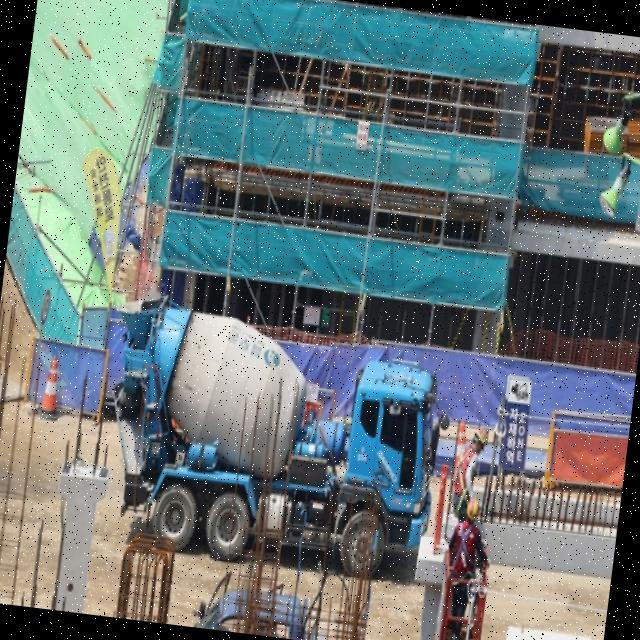Mixer Truck: (88, 286, 454, 588)
